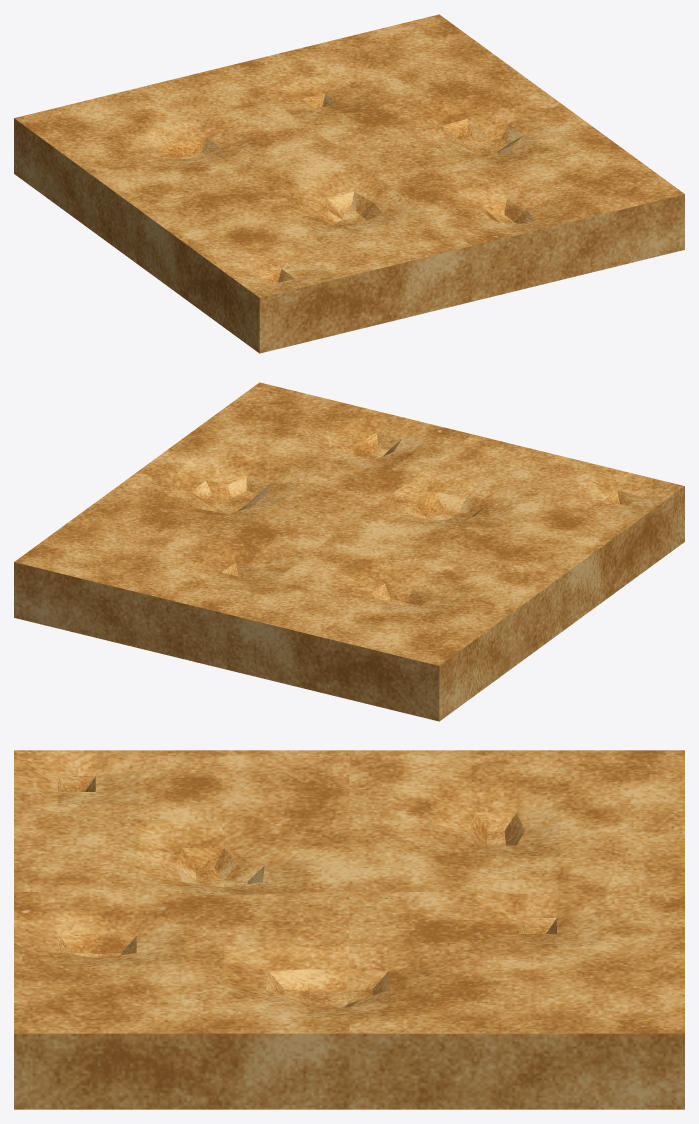
The model's file is floor_sand.glb.
3 views of the same model, one above another, from view 1: azimuth 30°, elevation 25°; view 2: azimuth 150°, elevation 25°; view 3: azimuth 270°, elevation 25° (orthographic). The views are drawn at different scales.
Visible parts, largest first — view 1: crypt_floor_sand; view 2: crypt_floor_sand; view 3: crypt_floor_sand.
Boxes of the visible parts, x1,y1,x2,y2 form: crypt_floor_sand: (14, 14, 684, 353); crypt_floor_sand: (14, 382, 684, 721); crypt_floor_sand: (14, 750, 684, 1109).
Size of the model in its own units: 1 by 0.125 by 1.
1 material, 1 textured.
